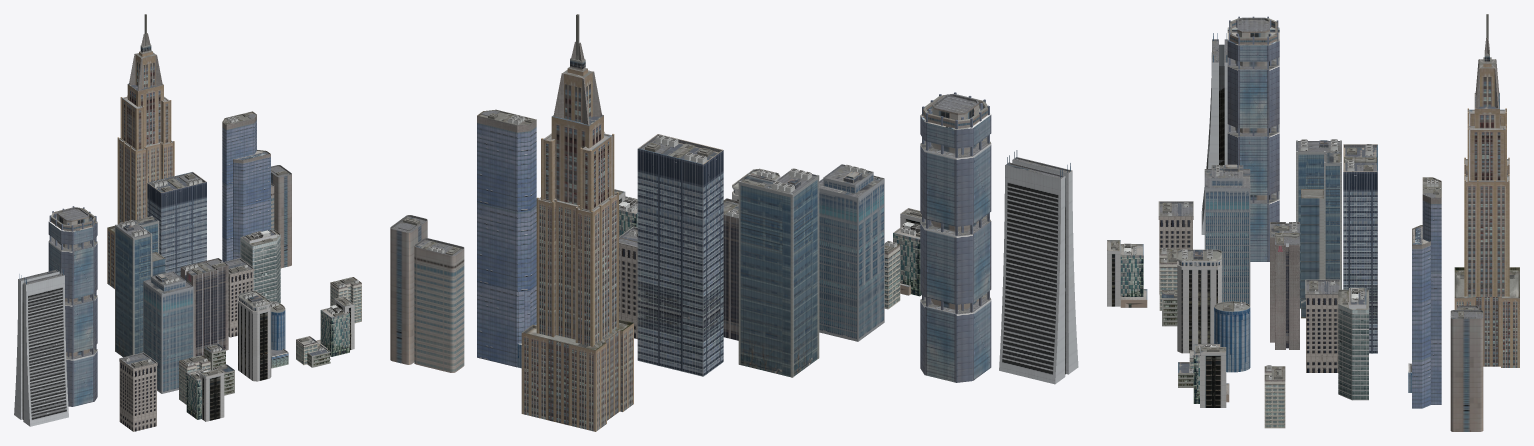
Rendered from lowpoly city.fbx.
The picture shows the model from 3 angles, left to right: view 1: azimuth 30°, elevation 25°; view 2: azimuth 150°, elevation 25°; view 3: azimuth 270°, elevation 25°; orthographic projection. The views are drawn at different scales.
Visible parts, largest first — view 1: 立方体.007, 立方体.010, 立方体.011, 立方体.002, 立方体.003, 立方体.004, 立方体.001, 立方体.005, 立方体.018, 立方体.016, 立方体.009, 立方体.014 (+8 smaller); view 2: 立方体.007, 立方体.011, 立方体.001, 立方体.003, 立方体.010, 立方体.002, 立方体.004, 立方体.006, 立方体.005, 立方体.014, 立方体, 立方体.008 (+1 smaller); view 3: 立方体.007, 立方体.011, 立方体.002, 立方体.003, 立方体.001, 立方体.004, 立方体.006, 立方体.016, 立方体.005, 立方体.009, 立方体, 立方体.014 (+8 smaller).
Part boxes in pixels (x1=…): 立方体.007: x1=107, y1=14, x2=174, y2=288; 立方体.010: x1=14, y1=265, x2=68, y2=426; 立方体.011: x1=48, y1=206, x2=97, y2=406; 立方体.002: x1=222, y1=111, x2=270, y2=261; 立方体.003: x1=115, y1=216, x2=165, y2=357; 立方体.004: x1=143, y1=271, x2=193, y2=393; 立方体.001: x1=147, y1=172, x2=206, y2=276; 立方体.005: x1=180, y1=258, x2=228, y2=356; 立方体.018: x1=119, y1=352, x2=157, y2=431; 立方体.016: x1=238, y1=290, x2=271, y2=381; 立方体.009: x1=240, y1=229, x2=280, y2=303; 立方体.014: x1=186, y1=368, x2=224, y2=421; 立方体.007: x1=521, y1=14, x2=633, y2=431; 立方体.011: x1=920, y1=92, x2=991, y2=382; 立方体.001: x1=637, y1=134, x2=723, y2=376; 立方体.003: x1=738, y1=168, x2=819, y2=377; 立方体.010: x1=999, y1=150, x2=1078, y2=384; 立方体.002: x1=477, y1=109, x2=536, y2=368; 立方体.004: x1=819, y1=164, x2=884, y2=341; 立方体.006: x1=390, y1=215, x2=464, y2=372; 立方体.005: x1=723, y1=198, x2=738, y2=340; 立方体.014: x1=893, y1=208, x2=921, y2=296; 立方体: x1=619, y1=226, x2=637, y2=338; 立方体.008: x1=884, y1=241, x2=900, y2=309; 立方体.007: x1=1454, y1=14, x2=1519, y2=367; 立方体.011: x1=1227, y1=16, x2=1279, y2=261; 立方体.002: x1=1408, y1=177, x2=1441, y2=408; 立方体.003: x1=1296, y1=139, x2=1341, y2=318; 立方体.001: x1=1343, y1=144, x2=1377, y2=353; 立方体.004: x1=1204, y1=164, x2=1250, y2=305; 立方体.006: x1=1450, y1=305, x2=1483, y2=431; 立方体.016: x1=1177, y1=249, x2=1222, y2=353; 立方体.005: x1=1270, y1=222, x2=1299, y2=349; 立方体.009: x1=1338, y1=288, x2=1368, y2=400; 立方体: x1=1305, y1=279, x2=1340, y2=372; 立方体.014: x1=1107, y1=240, x2=1147, y2=307.
Size of the model in its own units: 374 by 281 by 297.
